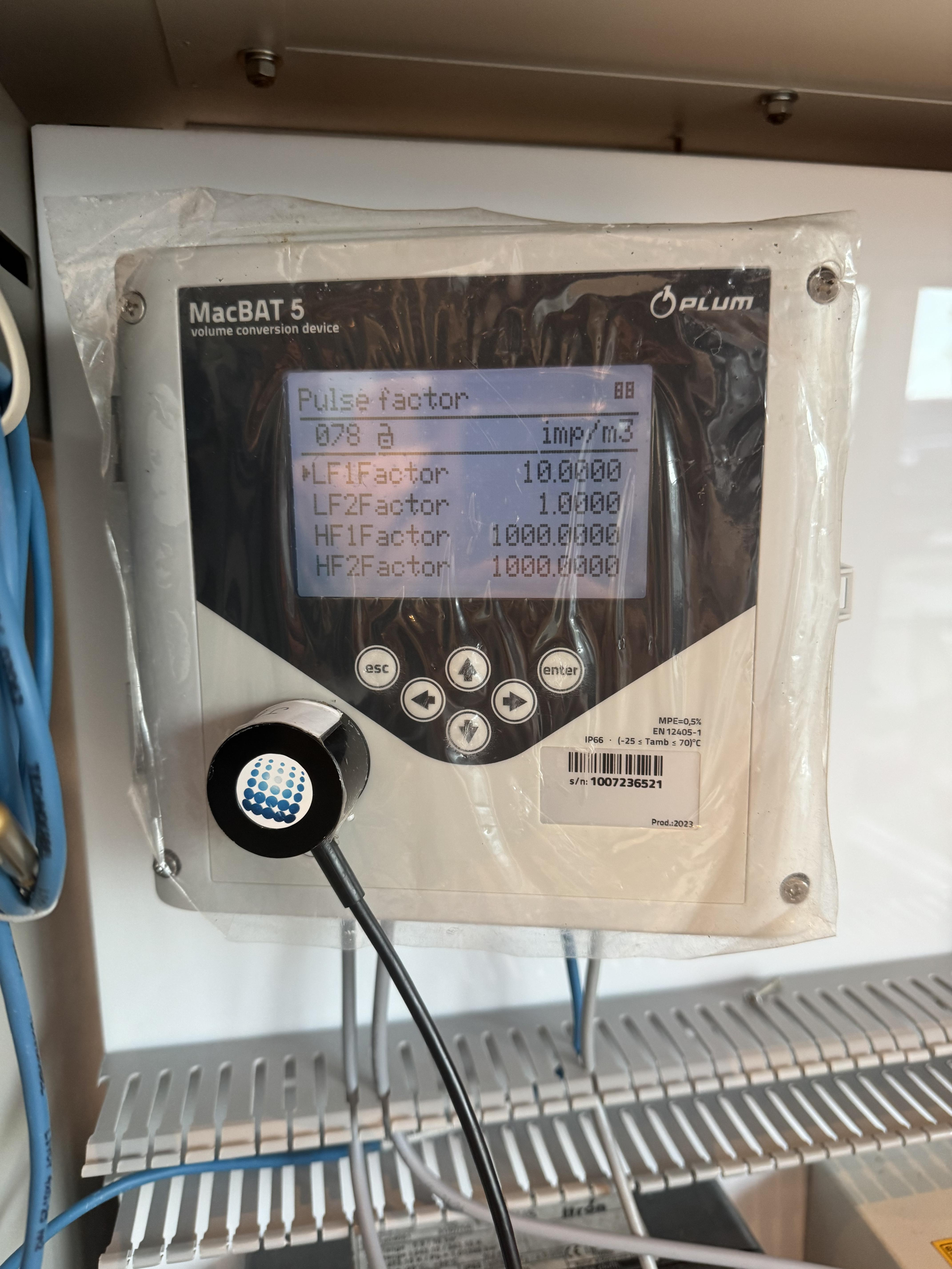digital_screen: (284, 366, 655, 604)
